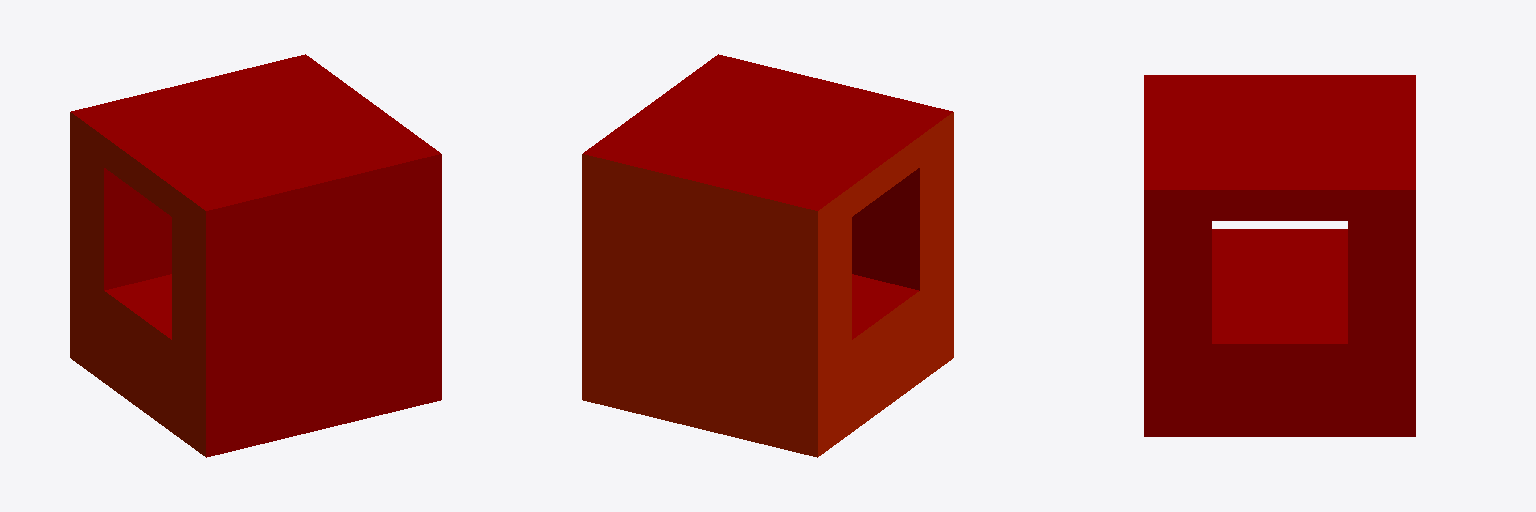
The picture shows the model from 3 angles: view 1: azimuth 30°, elevation 25°; view 2: azimuth 150°, elevation 25°; view 3: azimuth 270°, elevation 25°; orthographic projection.
Parts seen in each view (by area): view 1: 2_Cube.008; view 2: 2_Cube.008; view 3: 2_Cube.008.
Boxes of the visible parts, x1=… form: 2_Cube.008: x1=70, y1=54, x2=441, y2=457; 2_Cube.008: x1=582, y1=54, x2=953, y2=457; 2_Cube.008: x1=1144, y1=75, x2=1415, y2=436.
Bounding box in the file's own units: 2 × 2 × 2.